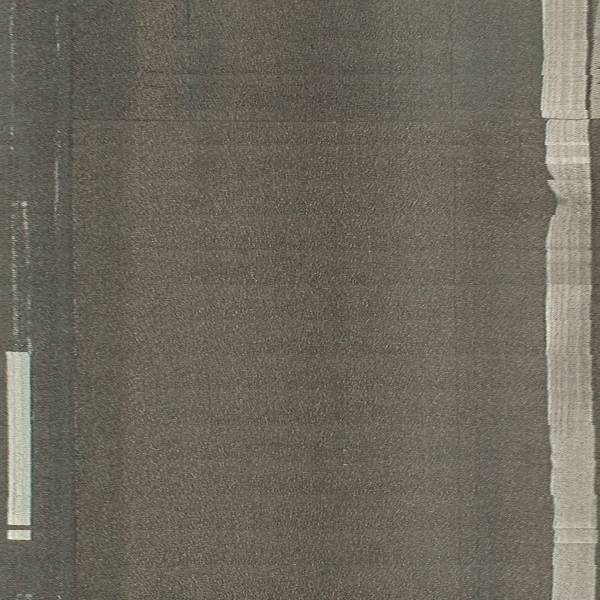road_damage: (75, 116, 357, 126)
